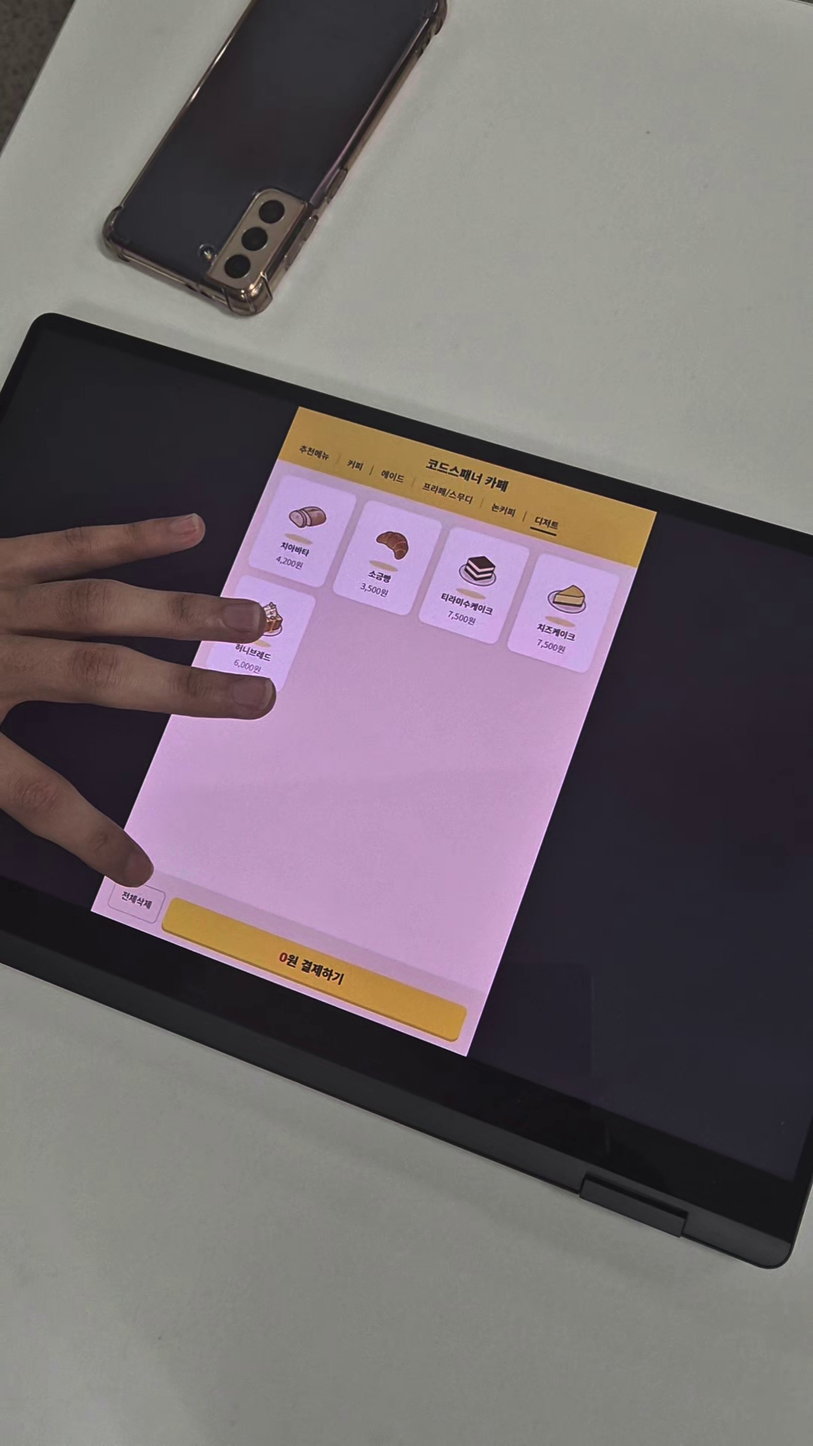action_button: (159, 895, 469, 1044), (106, 875, 167, 925)
category_tab: (421, 480, 475, 506), (296, 443, 331, 463), (532, 513, 561, 532), (489, 501, 518, 519), (378, 468, 406, 485), (345, 457, 365, 473)
menu_back: (505, 552, 621, 675), (416, 525, 531, 646), (330, 498, 444, 618), (204, 573, 317, 694), (245, 473, 359, 589)
menu_name: (439, 591, 495, 618), (535, 621, 578, 643), (232, 641, 273, 663), (278, 540, 311, 559), (366, 569, 392, 585)
menu_price: (535, 637, 567, 657), (446, 609, 477, 628), (232, 657, 262, 676), (274, 553, 304, 571), (359, 581, 389, 599)
